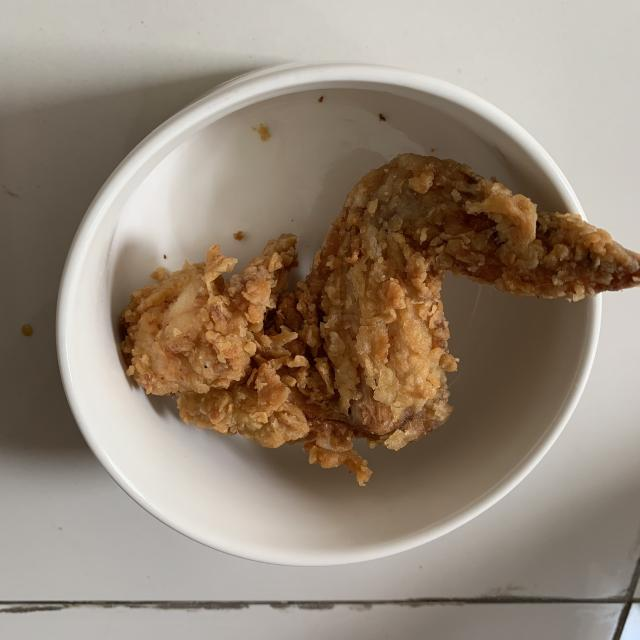Frango: (121, 153, 640, 487)
